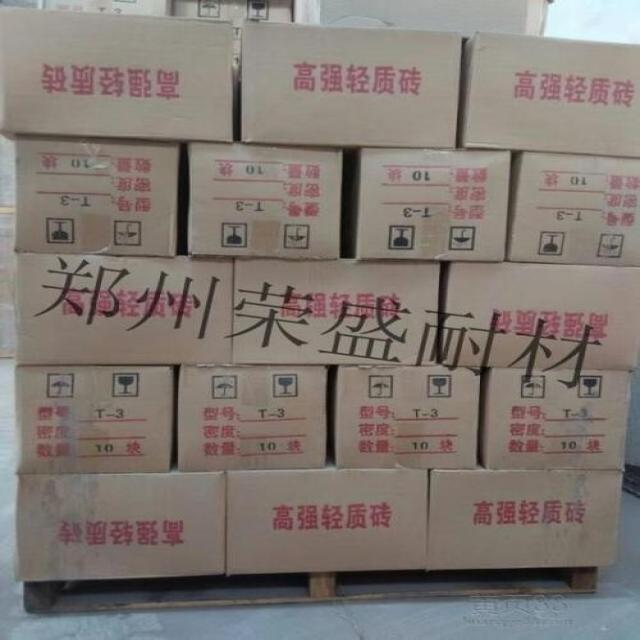box: (1, 7, 238, 143), (239, 19, 462, 147), (15, 251, 237, 365), (15, 469, 225, 580), (229, 258, 442, 365), (457, 30, 639, 154), (224, 467, 429, 574), (440, 260, 639, 368), (14, 134, 179, 256), (339, 145, 513, 260), (428, 467, 622, 568), (177, 141, 342, 258), (15, 364, 177, 475), (172, 366, 328, 471), (328, 365, 483, 467), (481, 367, 632, 469), (507, 152, 639, 265)
